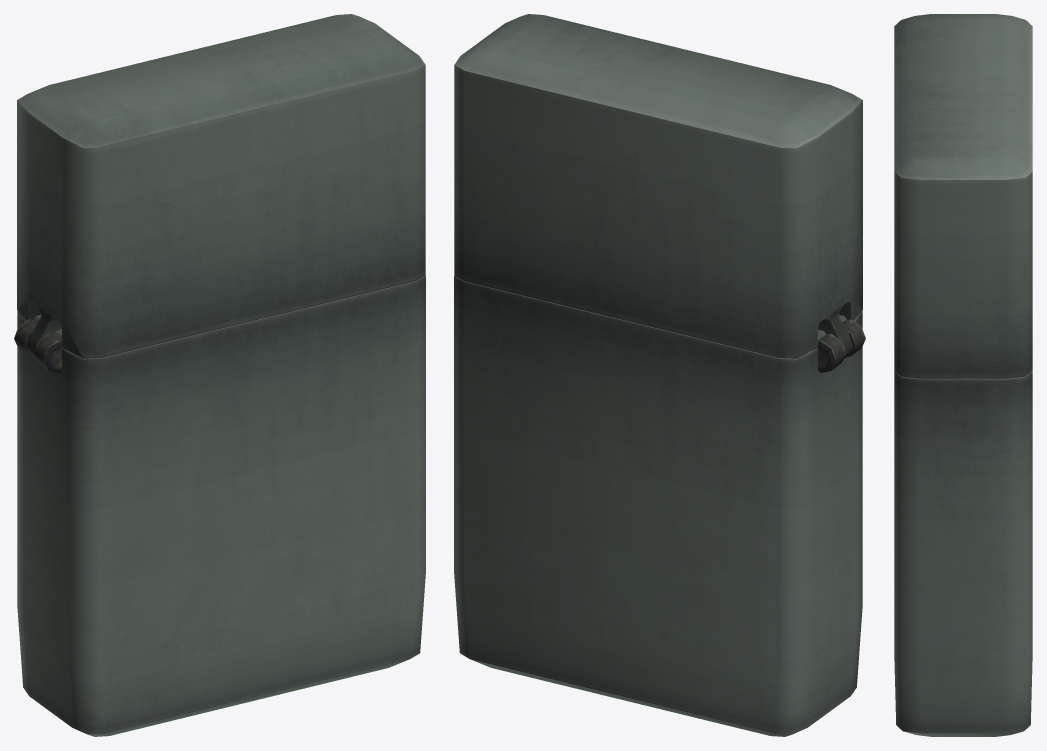
File: lighter.FBX
3 renders of one model, left to right at view 1: azimuth 30°, elevation 25°; view 2: azimuth 150°, elevation 25°; view 3: azimuth 270°, elevation 25°, orthographic. The views are drawn at different scales.
Visible parts, largest first — view 1: lighter_main, lighter_head; view 2: lighter_main, lighter_head; view 3: lighter_head, lighter_main.
Part boxes in pixels (x1=…): lighter_main: x1=14, y1=275, x2=425, y2=736; lighter_head: x1=17, y1=14, x2=425, y2=359; lighter_main: x1=454, y1=275, x2=865, y2=736; lighter_head: x1=454, y1=14, x2=862, y2=359; lighter_head: x1=894, y1=14, x2=1032, y2=378; lighter_main: x1=894, y1=370, x2=1032, y2=736.
Size of the model in its own units: 26.1 by 41.63 by 9.
